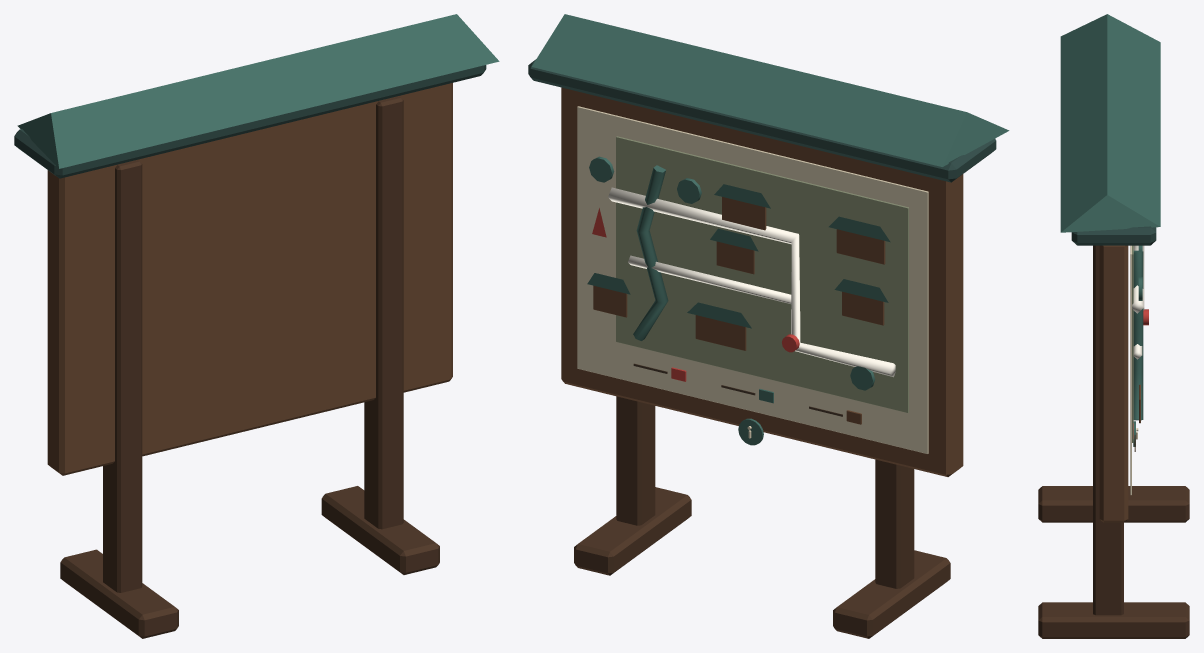
File: SU_10_Village_Map.fbx
3 views of the same model, side by side, from view 1: azimuth 30°, elevation 25°; view 2: azimuth 150°, elevation 25°; view 3: azimuth 270°, elevation 25° (orthographic). The views are drawn at different scales.
Visible parts, largest first — view 1: SU_10_Village_Map; view 2: SU_10_Village_Map; view 3: SU_10_Village_Map.
Boxes of the visible parts, left/top/right/bottom form: SU_10_Village_Map: left=14, top=14, right=499, bottom=638; SU_10_Village_Map: left=528, top=14, right=1009, bottom=638; SU_10_Village_Map: left=1038, top=14, right=1189, bottom=638.
Bounding box in the file's own units: 2.09 × 0.68 × 2.33.
